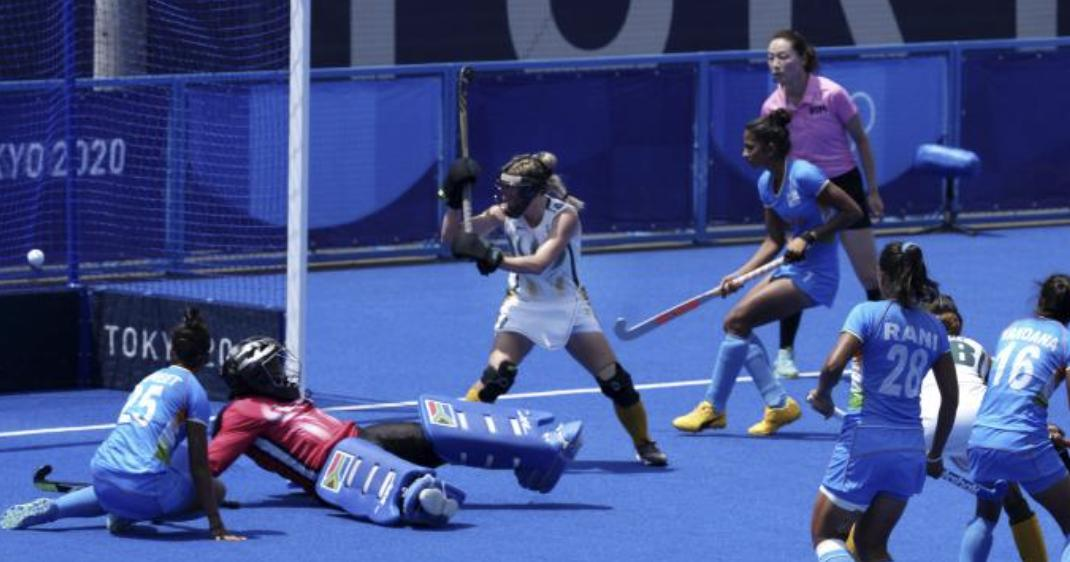ball: (23, 244, 69, 277)
